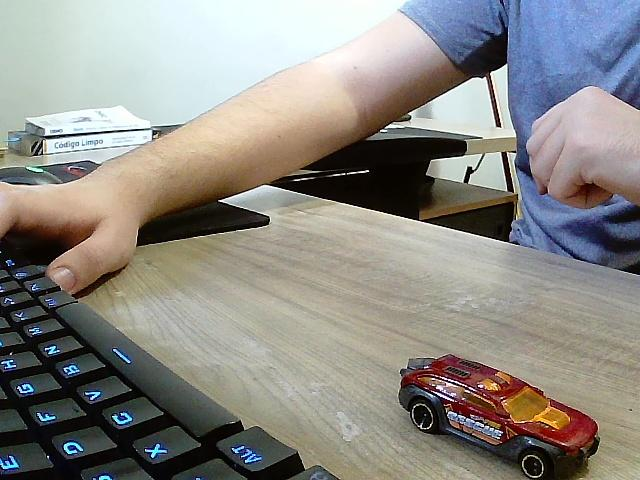Carro: (398, 356, 600, 479)
